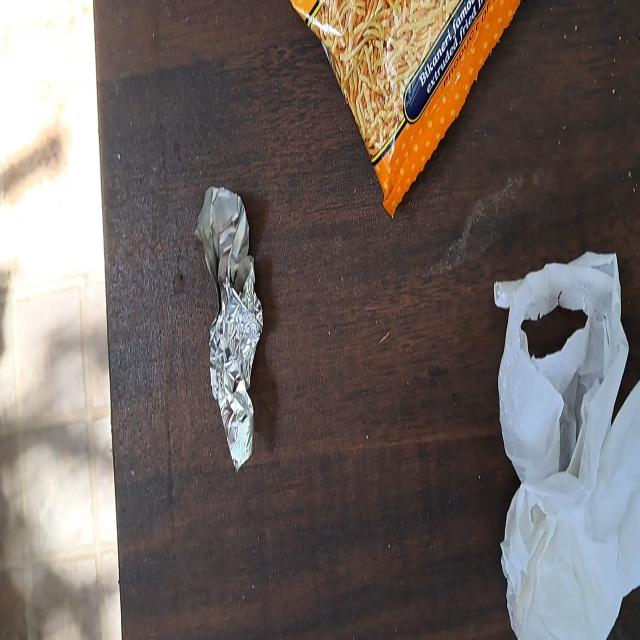Anorganik: (290, 0, 520, 220), (195, 185, 264, 472)
Organik: (492, 253, 640, 640)
